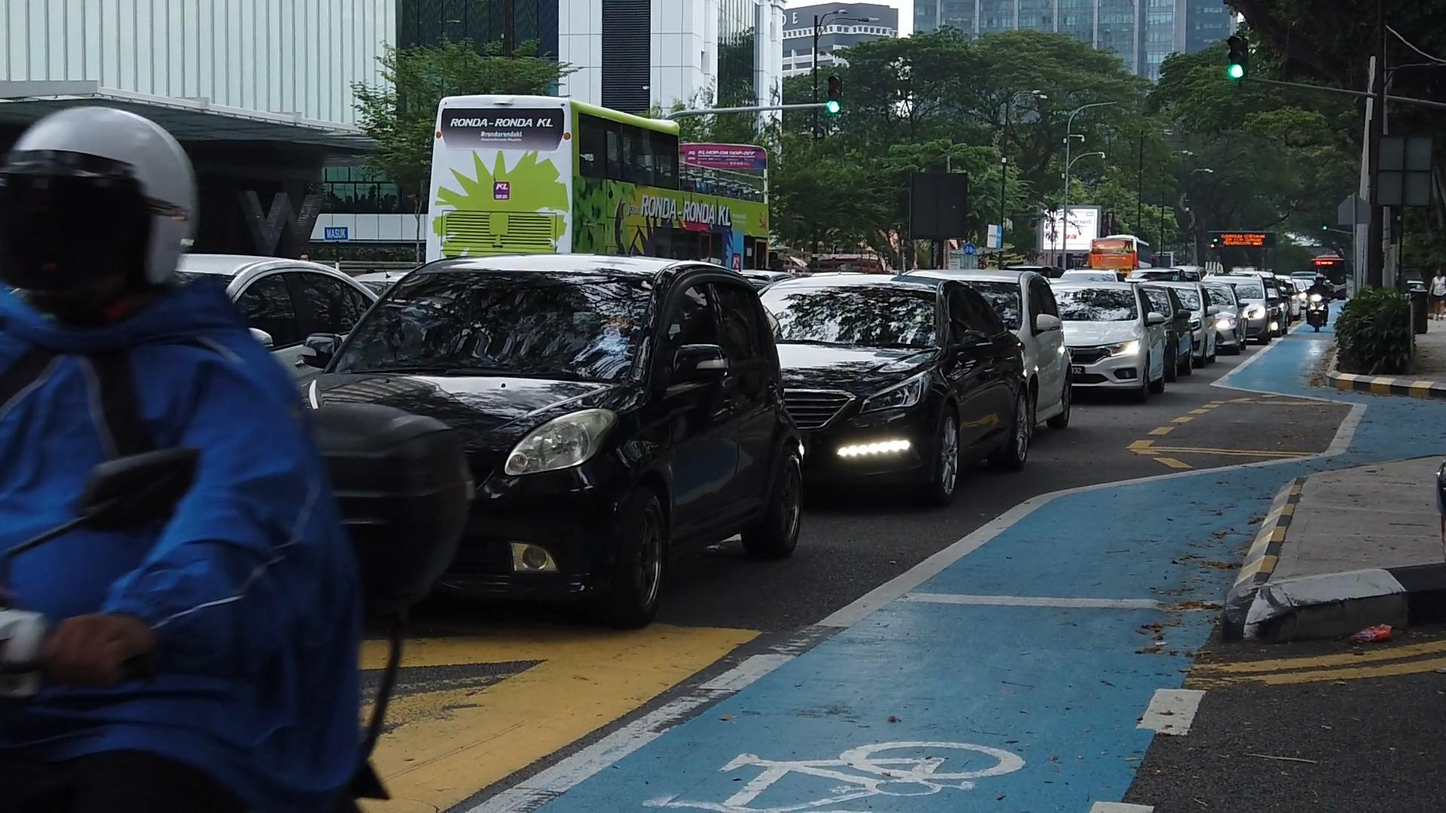driver: (1, 106, 471, 813)
helmet: (2, 105, 200, 330)
